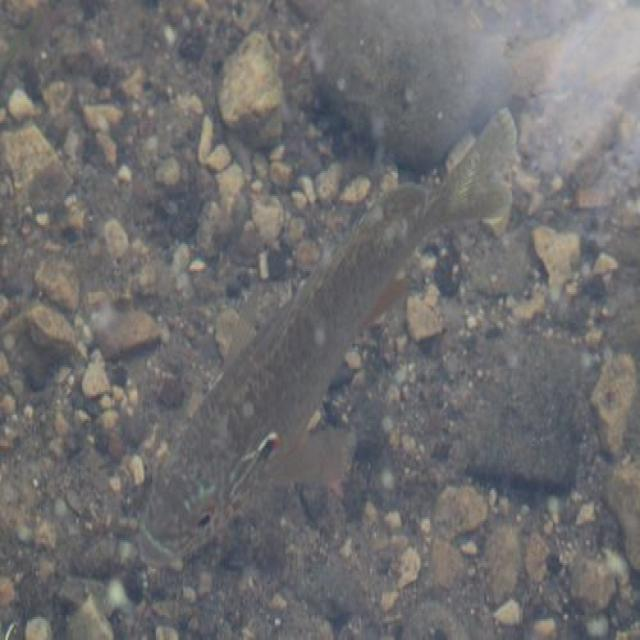Gunes Levregi: (141, 87, 521, 596)
